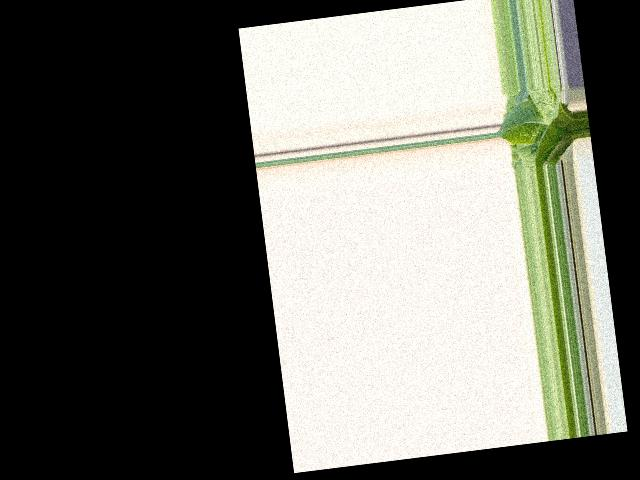lettuce: (499, 92, 579, 169)
